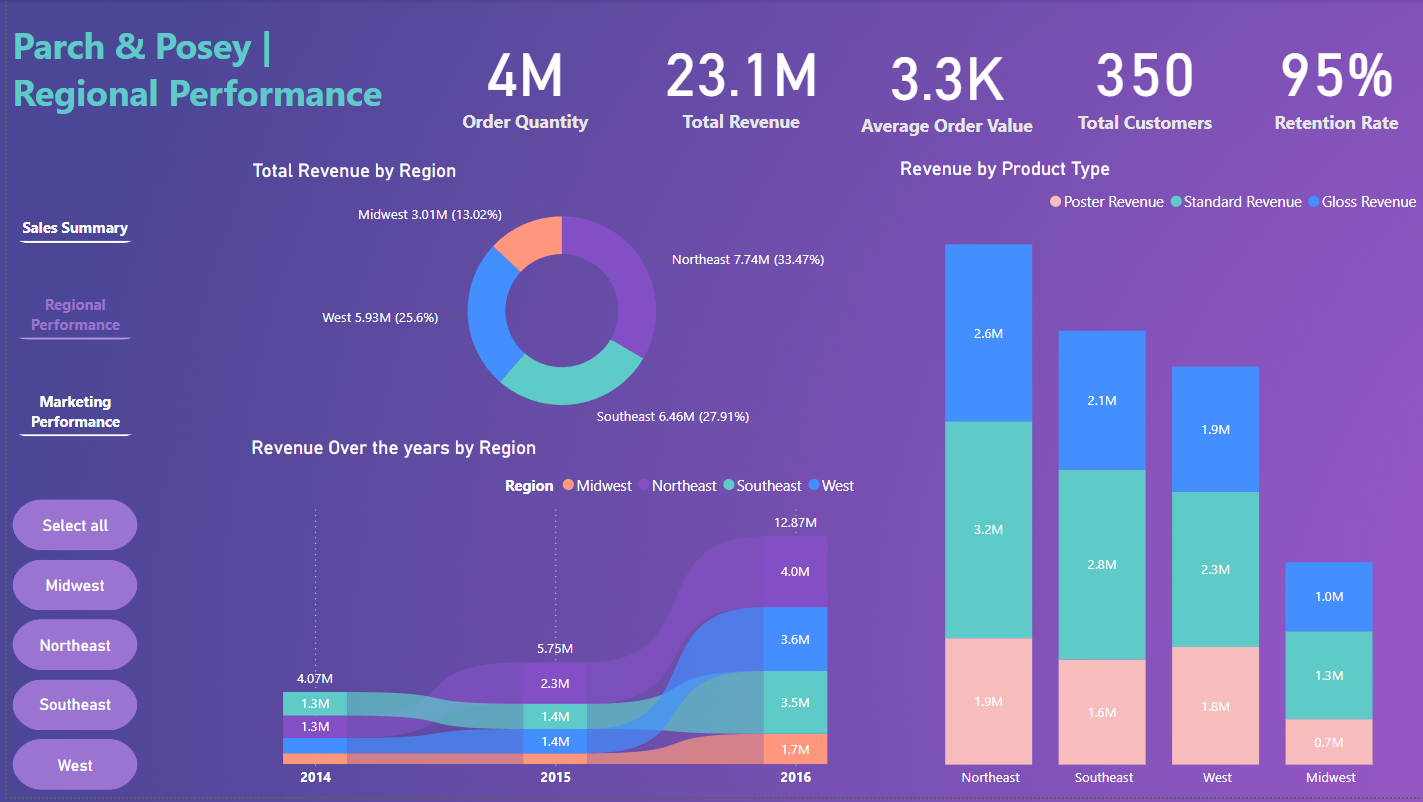

This screenshot's page, from the dashboard's own definition file:
{"tool":"powerbi","page":{"name":"Regional Performance","canvas":[1280,720],"ordinal":1},"visuals":[{"type":"advancedSlicerVisual","fields":{"Values":["region.name"]},"box":[0,446.3,123.5,273.9],"z":0},{"type":"textbox","box":[0,0,371.7,150.4],"z":1000},{"type":"pageNavigator","box":[0,143.1,123.5,253.1],"z":2000},{"type":"ribbonChart","title":"Revenue Over the years by Region","fields":{"Category":["orders.occurred_at.Variation.Date Hierarchy.Year"],"Y":["Sum(orders.total_amt_usd)"],"Series":["region.name"]},"box":[215.2,395,573.5,325.3],"z":3000},{"type":"donutChart","title":"Total Revenue by Region","fields":{"Category":["region.name"],"Y":["Sum(orders.total_amt_usd)"]},"box":[216.2,144.3,583.3,250.7],"z":4000},{"type":"columnChart","title":"Revenue by Product Type","fields":{"Category":["region.name"],"Y":["Sum(orders.poster_amt_usd)","Sum(orders.standard_amt_usd)","Sum(orders.gloss_amt_usd)"]},"box":[799.7,143.1,480.6,577.2],"z":5000},{"type":"card","fields":{"Values":["Sum(orders.total_amt_usd)"]},"box":[562.5,0,199.3,144.3],"z":6000},{"type":"card","fields":{"Values":["orders.Order Quantity"]},"box":[371.7,0,190.8,144.3],"z":7000},{"type":"card","fields":{"Values":["accounts.Total Customers"]},"box":[933,2.4,185.9,140.6],"z":8000},{"type":"card","fields":{"Values":["Avg(orders.total_amt_usd)"]},"box":[761.8,7.3,171.2,135.7],"z":9000},{"type":"card","fields":{"Values":["accounts.Retention Rate"]},"box":[1118.6,2.4,161.4,140.6],"z":10000}]}

Visuals, with their boxes in screenshot pixels (x1, y1, x2, y2), scaled from the page's 1280x720 canvas onto the 1423x802 screenshot:
advancedSlicerVisual - region.name: locate(0, 497, 137, 801)
textbox: locate(0, 0, 413, 168)
pageNavigator: locate(0, 159, 137, 441)
"Revenue Over the years by Region" ribbonChart: locate(239, 440, 877, 801)
"Total Revenue by Region" donutChart: locate(240, 161, 889, 440)
"Revenue by Product Type" columnChart: locate(889, 159, 1422, 801)
card - Sum(orders.total_amt_usd): locate(625, 0, 847, 161)
card - orders.Order Quantity: locate(413, 0, 625, 161)
card - accounts.Total Customers: locate(1037, 3, 1244, 159)
card - Avg(orders.total_amt_usd): locate(847, 8, 1037, 159)
card - accounts.Retention Rate: locate(1244, 3, 1422, 159)
